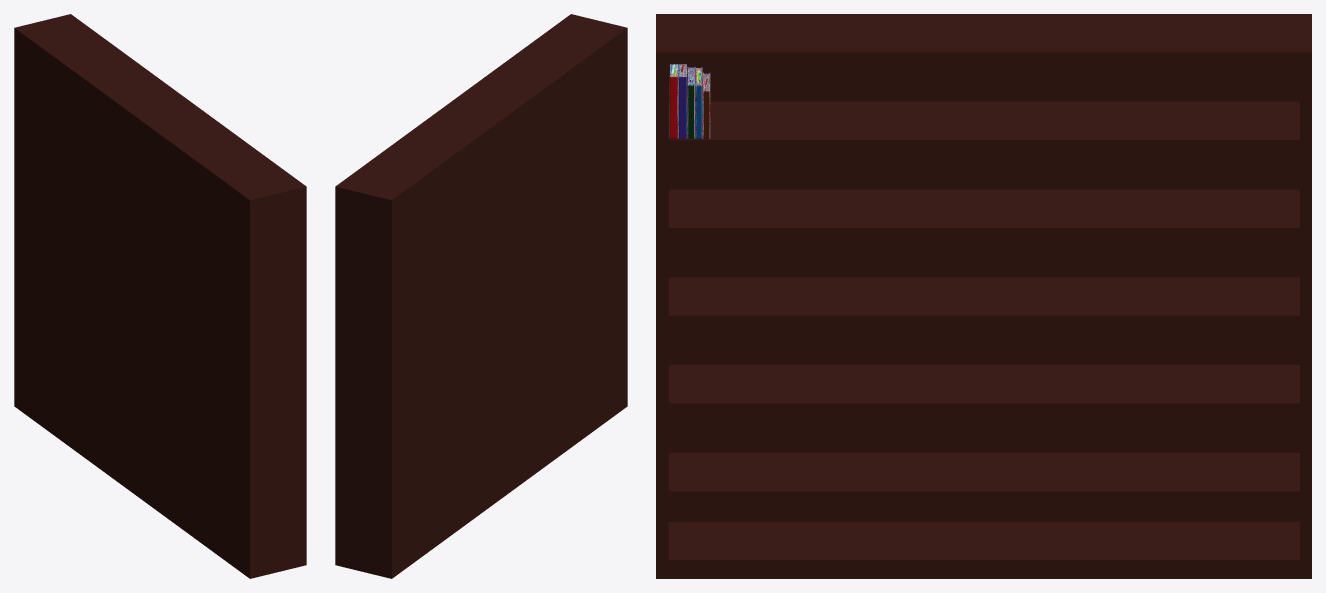
Rendered from ARMARIOOK.fbx.
3 views of the same model, side by side, from view 1: azimuth 30°, elevation 25°; view 2: azimuth 150°, elevation 25°; view 3: azimuth 270°, elevation 25° (orthographic). The views are drawn at different scales.
Visible parts, largest first — view 1: Cube; view 2: Cube; view 3: Cube, 10266_Books_Literature.
Part boxes in pixels (x1,y1,x2,y2): Cube: [14, 14, 306, 578]; Cube: [335, 14, 627, 578]; Cube: [656, 14, 1311, 578]; 10266_Books_Literature: [669, 64, 710, 138].
Size of the model in its own units: 156 by 1000 by 1129.
Materials: 2 (1 with a texture image).
